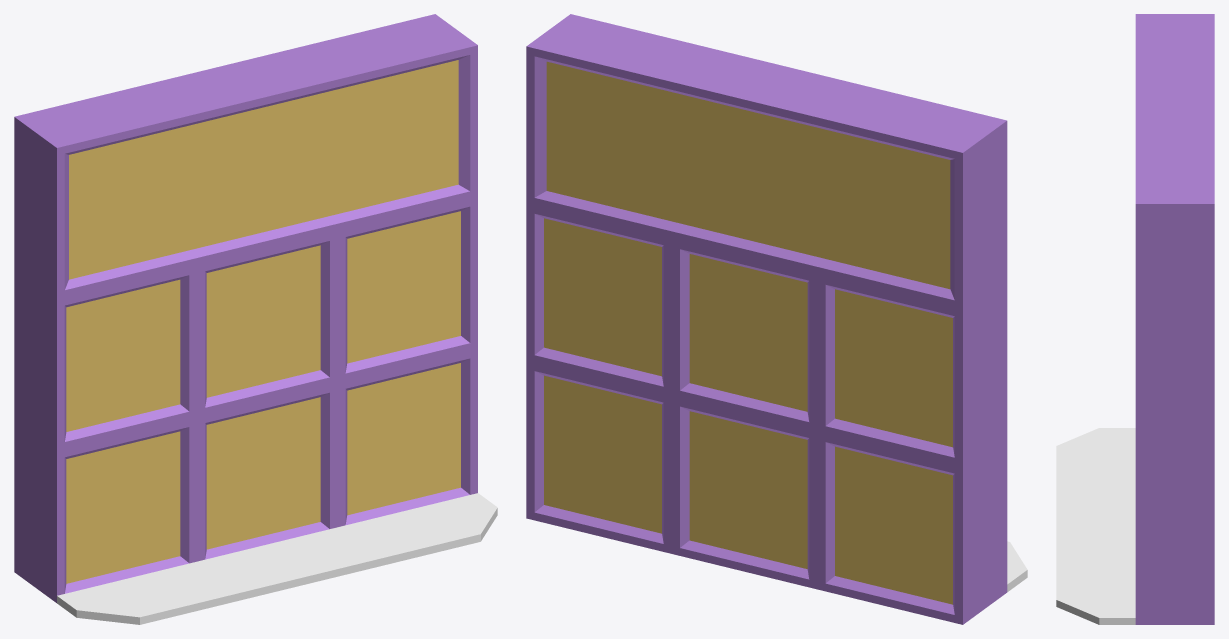
File: Window_20.fbx
The picture shows the model from 3 angles, left to right: view 1: azimuth 30°, elevation 25°; view 2: azimuth 150°, elevation 25°; view 3: azimuth 270°, elevation 25°; orthographic projection. The views are drawn at different scales.
Parts seen in each view (by area): view 1: Window_20; view 2: Window_20; view 3: Window_20.
Part boxes in pixels (bbox=[...]): Window_20: bbox=[14, 14, 497, 624]; Window_20: bbox=[526, 14, 1027, 624]; Window_20: bbox=[1056, 14, 1214, 624].
Bounding box in the file's own units: 1.32 × 1.36 × 0.4632.
